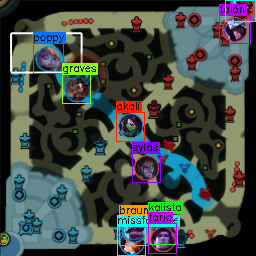akali: (117, 114, 142, 138)
braum: (122, 217, 145, 242)
graves: (65, 77, 88, 101)
kalista: (151, 216, 175, 239)
missfortune: (120, 231, 143, 253)
monkeyking: (228, 1, 255, 21)
poppy: (35, 46, 58, 70)
sylas: (133, 155, 159, 180)
talon: (222, 17, 247, 40)
taric: (150, 226, 173, 251)
